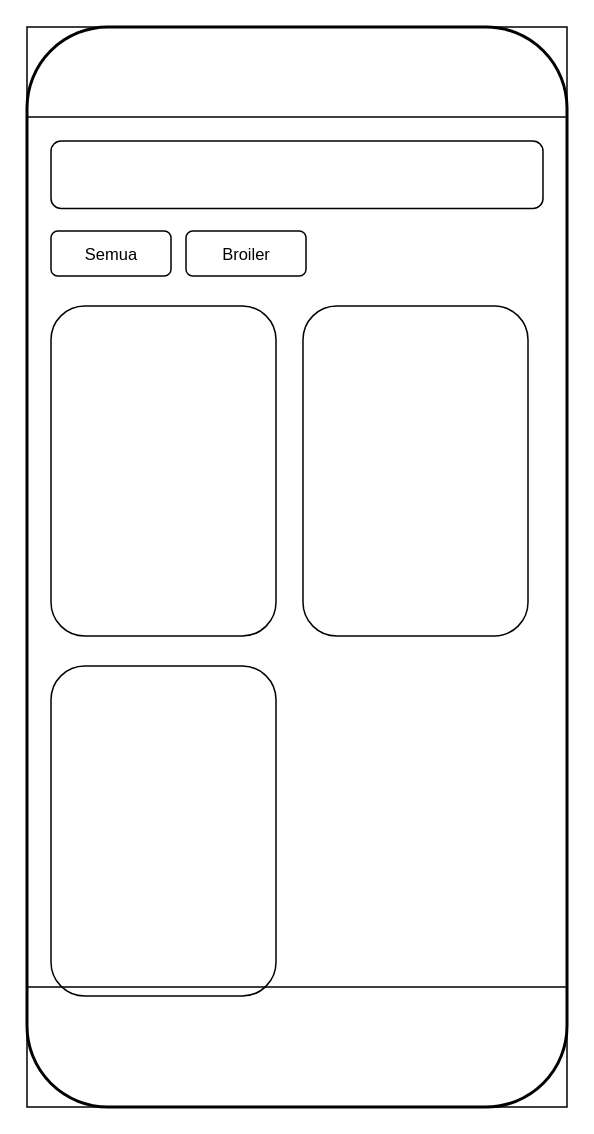
Image size: 594x1134. Some labels were removed from this diagram. The centre of each missing label's shape, as x and y in pixels:
Cari ayam segar...: the point at 296,174
Katalog Produk: the point at 296,71
